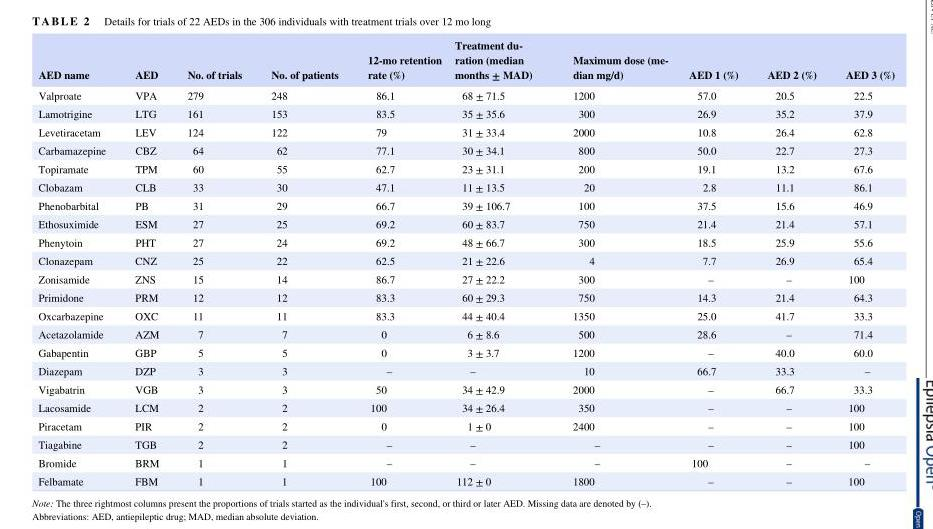table: (38, 37, 895, 489)
table column: (552, 37, 678, 489), (448, 37, 552, 489), (256, 37, 353, 489), (353, 37, 448, 489), (173, 37, 256, 489), (38, 37, 120, 489), (753, 37, 831, 489), (678, 37, 753, 489), (831, 37, 895, 489), (120, 37, 173, 489)
table column header: (38, 37, 895, 85)
table row: (38, 37, 895, 85), (38, 85, 895, 105), (38, 141, 895, 160), (38, 196, 895, 215), (38, 251, 895, 270), (38, 288, 895, 307), (38, 343, 895, 362), (38, 398, 895, 417), (38, 435, 895, 454), (38, 105, 895, 123), (38, 123, 895, 141), (38, 160, 895, 178), (38, 178, 895, 196), (38, 215, 895, 233), (38, 233, 895, 251), (38, 270, 895, 288), (38, 307, 895, 325), (38, 325, 895, 343), (38, 362, 895, 380), (38, 380, 895, 398), (38, 417, 895, 435), (38, 454, 895, 472), (38, 472, 895, 489)
